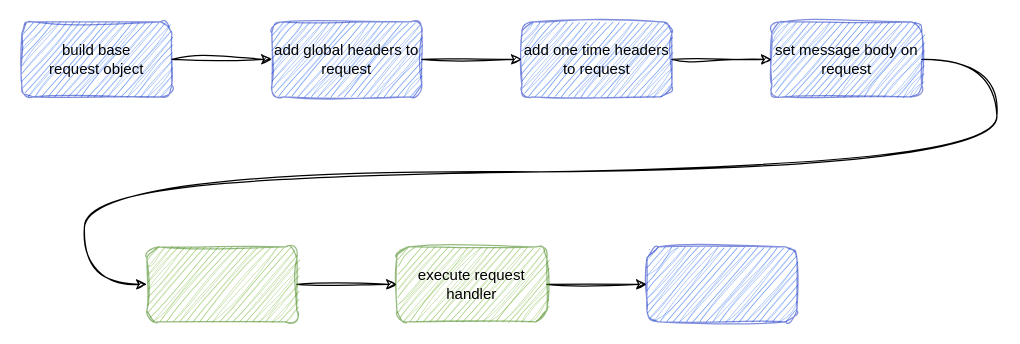
Some shapes in this 1020 by 344 pixel diagram are drawn without their labels. Each missing label, with the centre of its shape:
"execute authentication provider" belongs at point (221, 284).
"send request" belongs at point (721, 284).
